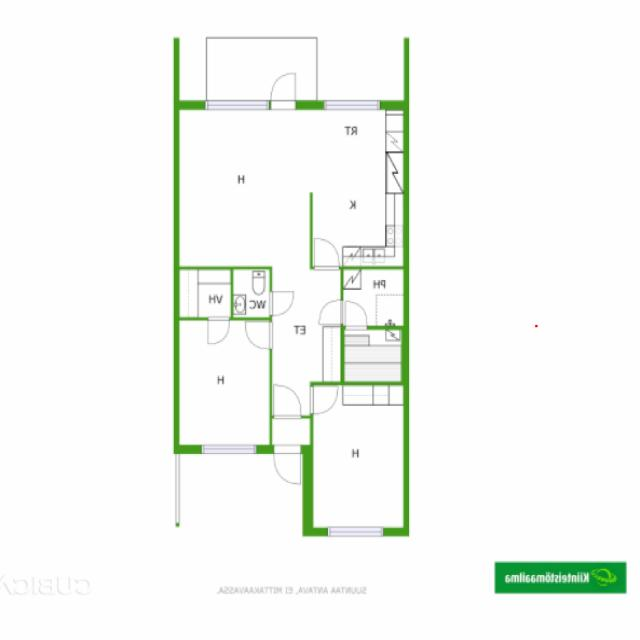door: (274, 445, 300, 484), (270, 73, 295, 109), (274, 384, 300, 418), (314, 238, 339, 270), (309, 386, 337, 413), (245, 322, 272, 348), (207, 316, 229, 345), (268, 291, 294, 315), (320, 300, 344, 324), (346, 302, 366, 330)
